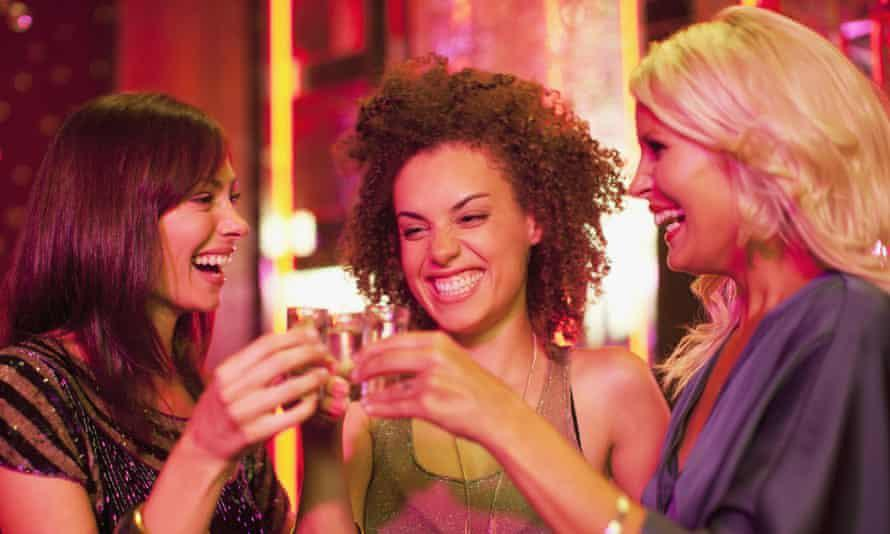Drunk: (395, 159, 518, 333), (627, 104, 729, 284), (167, 161, 253, 308)
